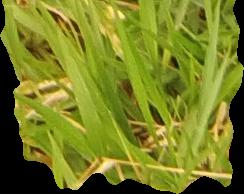grass: (1, 1, 242, 193)
